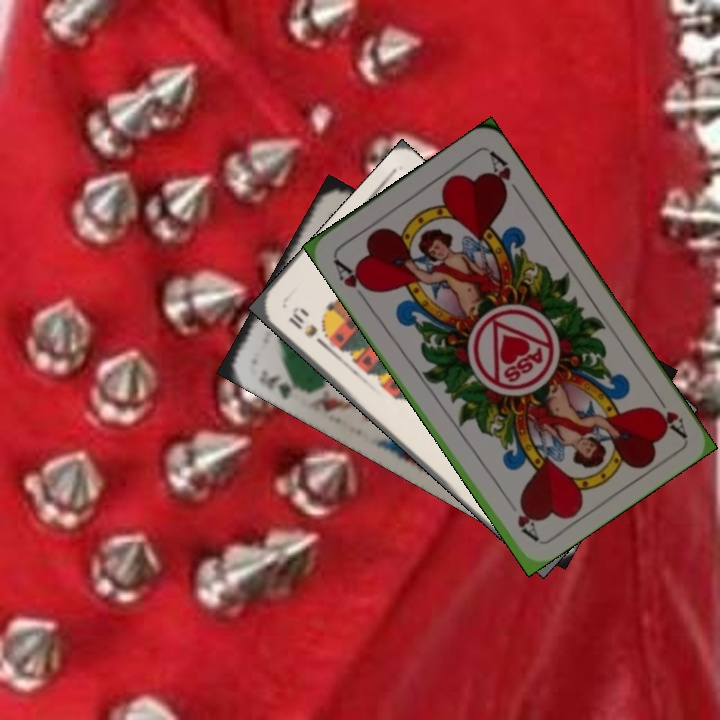GK: (254, 365, 304, 402)
HA: (646, 386, 689, 440), (329, 254, 374, 305)
S10: (284, 304, 328, 349)
